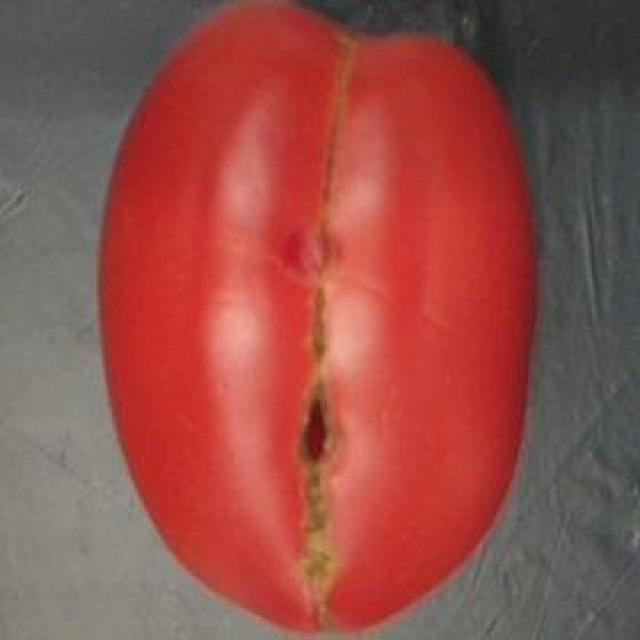overripe tomato: (80, 0, 555, 640)
